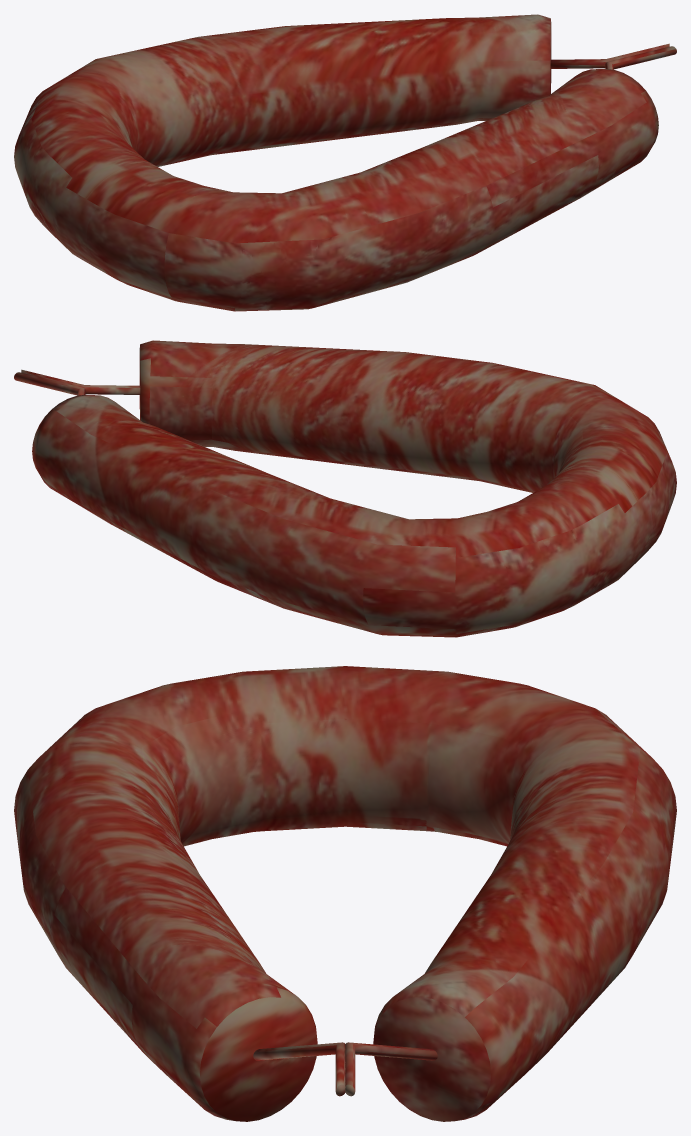
The model's file is sucuk tam.fbx.
3 renders of one model, top to bottom at view 1: azimuth 30°, elevation 25°; view 2: azimuth 150°, elevation 25°; view 3: azimuth 270°, elevation 25°, orthographic. The views are drawn at different scales.
Parts seen in each view (by area): view 1: Cylinder; view 2: Cylinder; view 3: Cylinder.
Boxes of the visible parts, x1=… form: Cylinder: x1=14, y1=14, x2=676, y2=311; Cylinder: x1=14, y1=340, x2=676, y2=637; Cylinder: x1=14, y1=666, x2=676, y2=1121.
Size of the model in its own units: 1197 by 201 by 824.
Materials: 1 (1 with a texture image).
